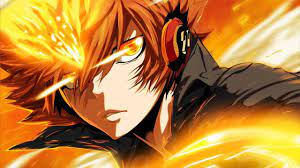Tsuna: (40, 3, 190, 139)
